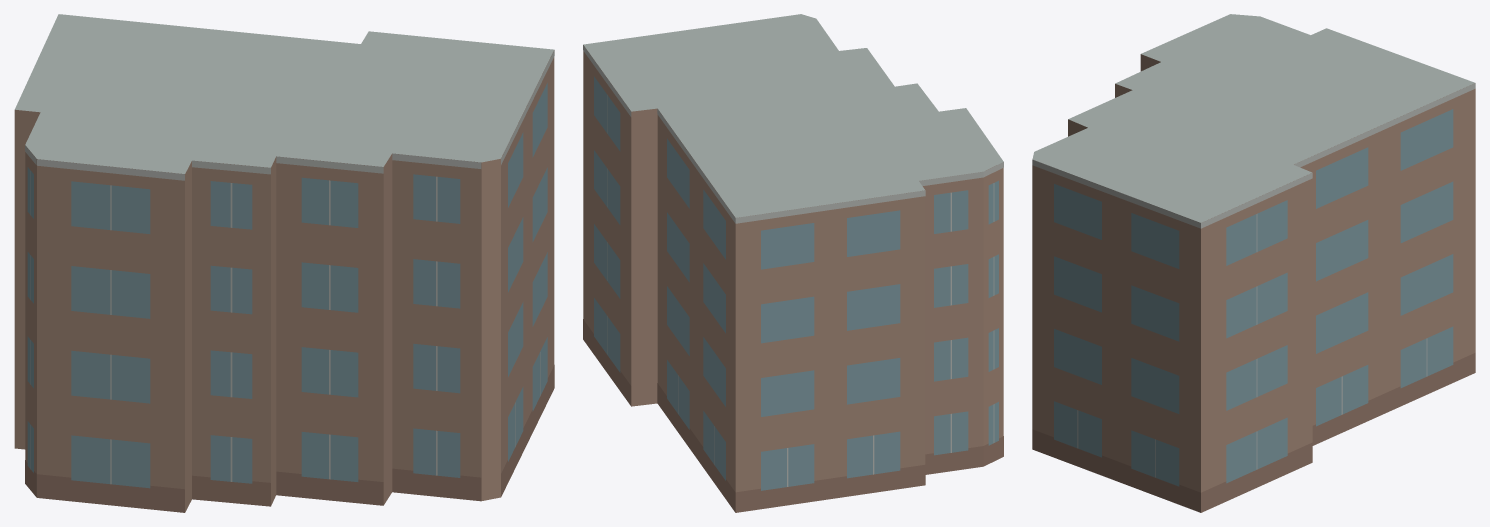
The model's file is survey-upis-32980320.glb.
3 views of the same model, side by side, from view 1: azimuth 30°, elevation 25°; view 2: azimuth 150°, elevation 25°; view 3: azimuth 270°, elevation 25° (orthographic). The views are drawn at different scales.
Visible parts, largest first — view 1: survey-upis-32980320.tmp; view 2: survey-upis-32980320.tmp; view 3: survey-upis-32980320.tmp.
Boxes of the visible parts, <box> form: survey-upis-32980320.tmp: <box>14,14,554,512</box>; survey-upis-32980320.tmp: <box>583,14,1003,512</box>; survey-upis-32980320.tmp: <box>1032,14,1475,512</box>.
Size of the model in its own units: 19 by 12.29 by 17.03.
